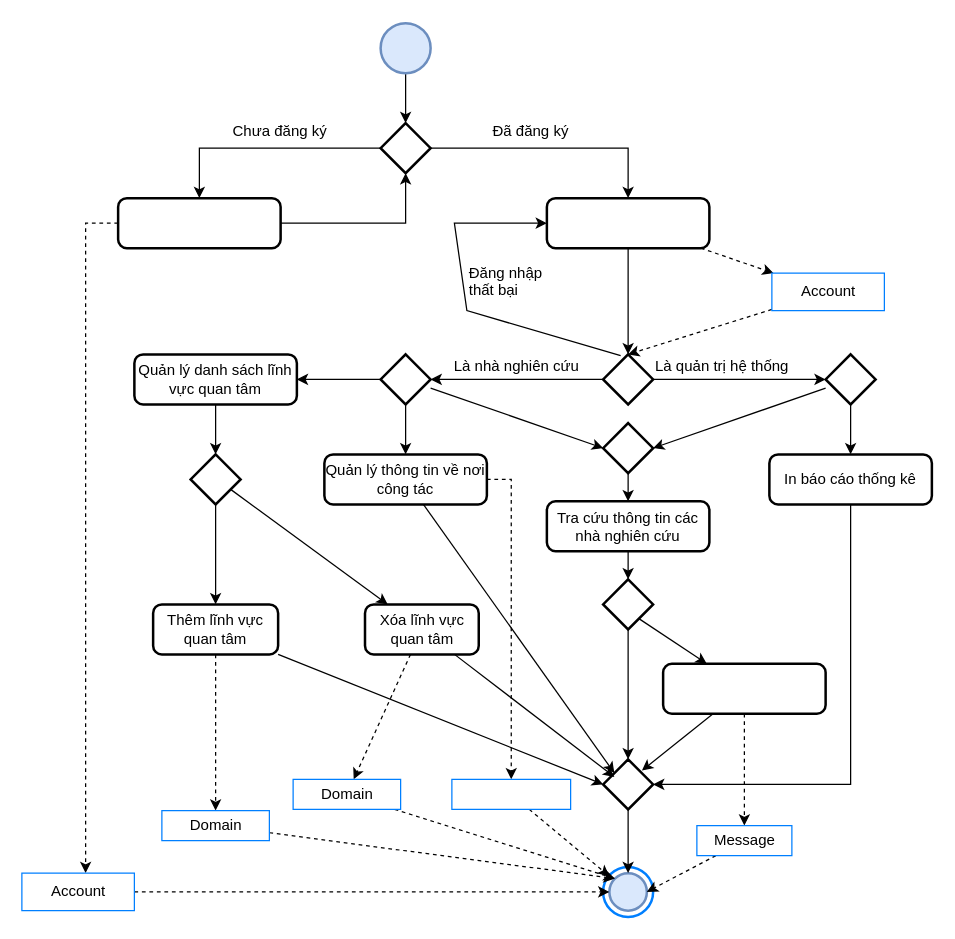
The diagram is 955 pixels wide and 939 high, and some of its shapes have lost their labels. The shapes that lost their labels are listed below. From the top down, each one's centre as x and y in pixels, then its label:
the point at 198,222: Đăng ký
the point at 627,222: Đăng nhập
the point at 743,688: Gửi tin nhắn liên hệ
the point at 511,793: WorkplaceInfo
